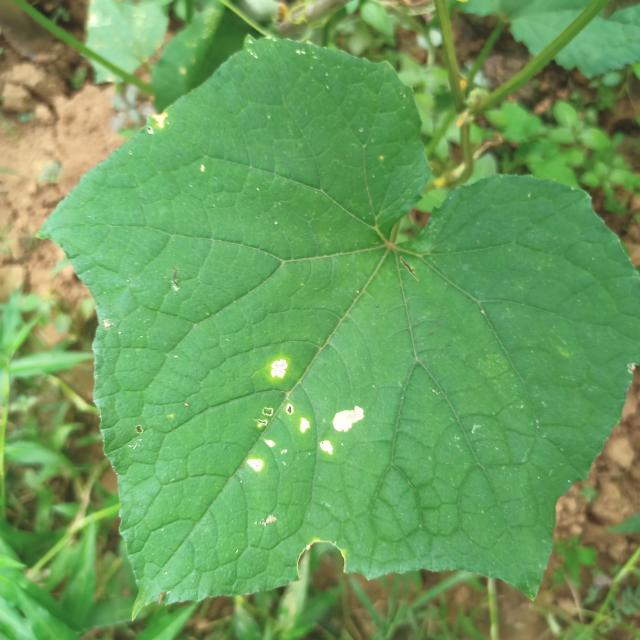disease_cucumber: (249, 358, 362, 470)
